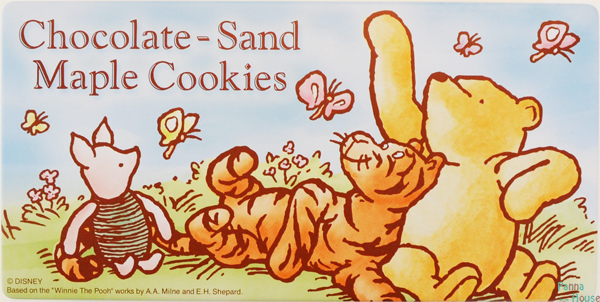Winnie: (379, 46, 560, 191)
